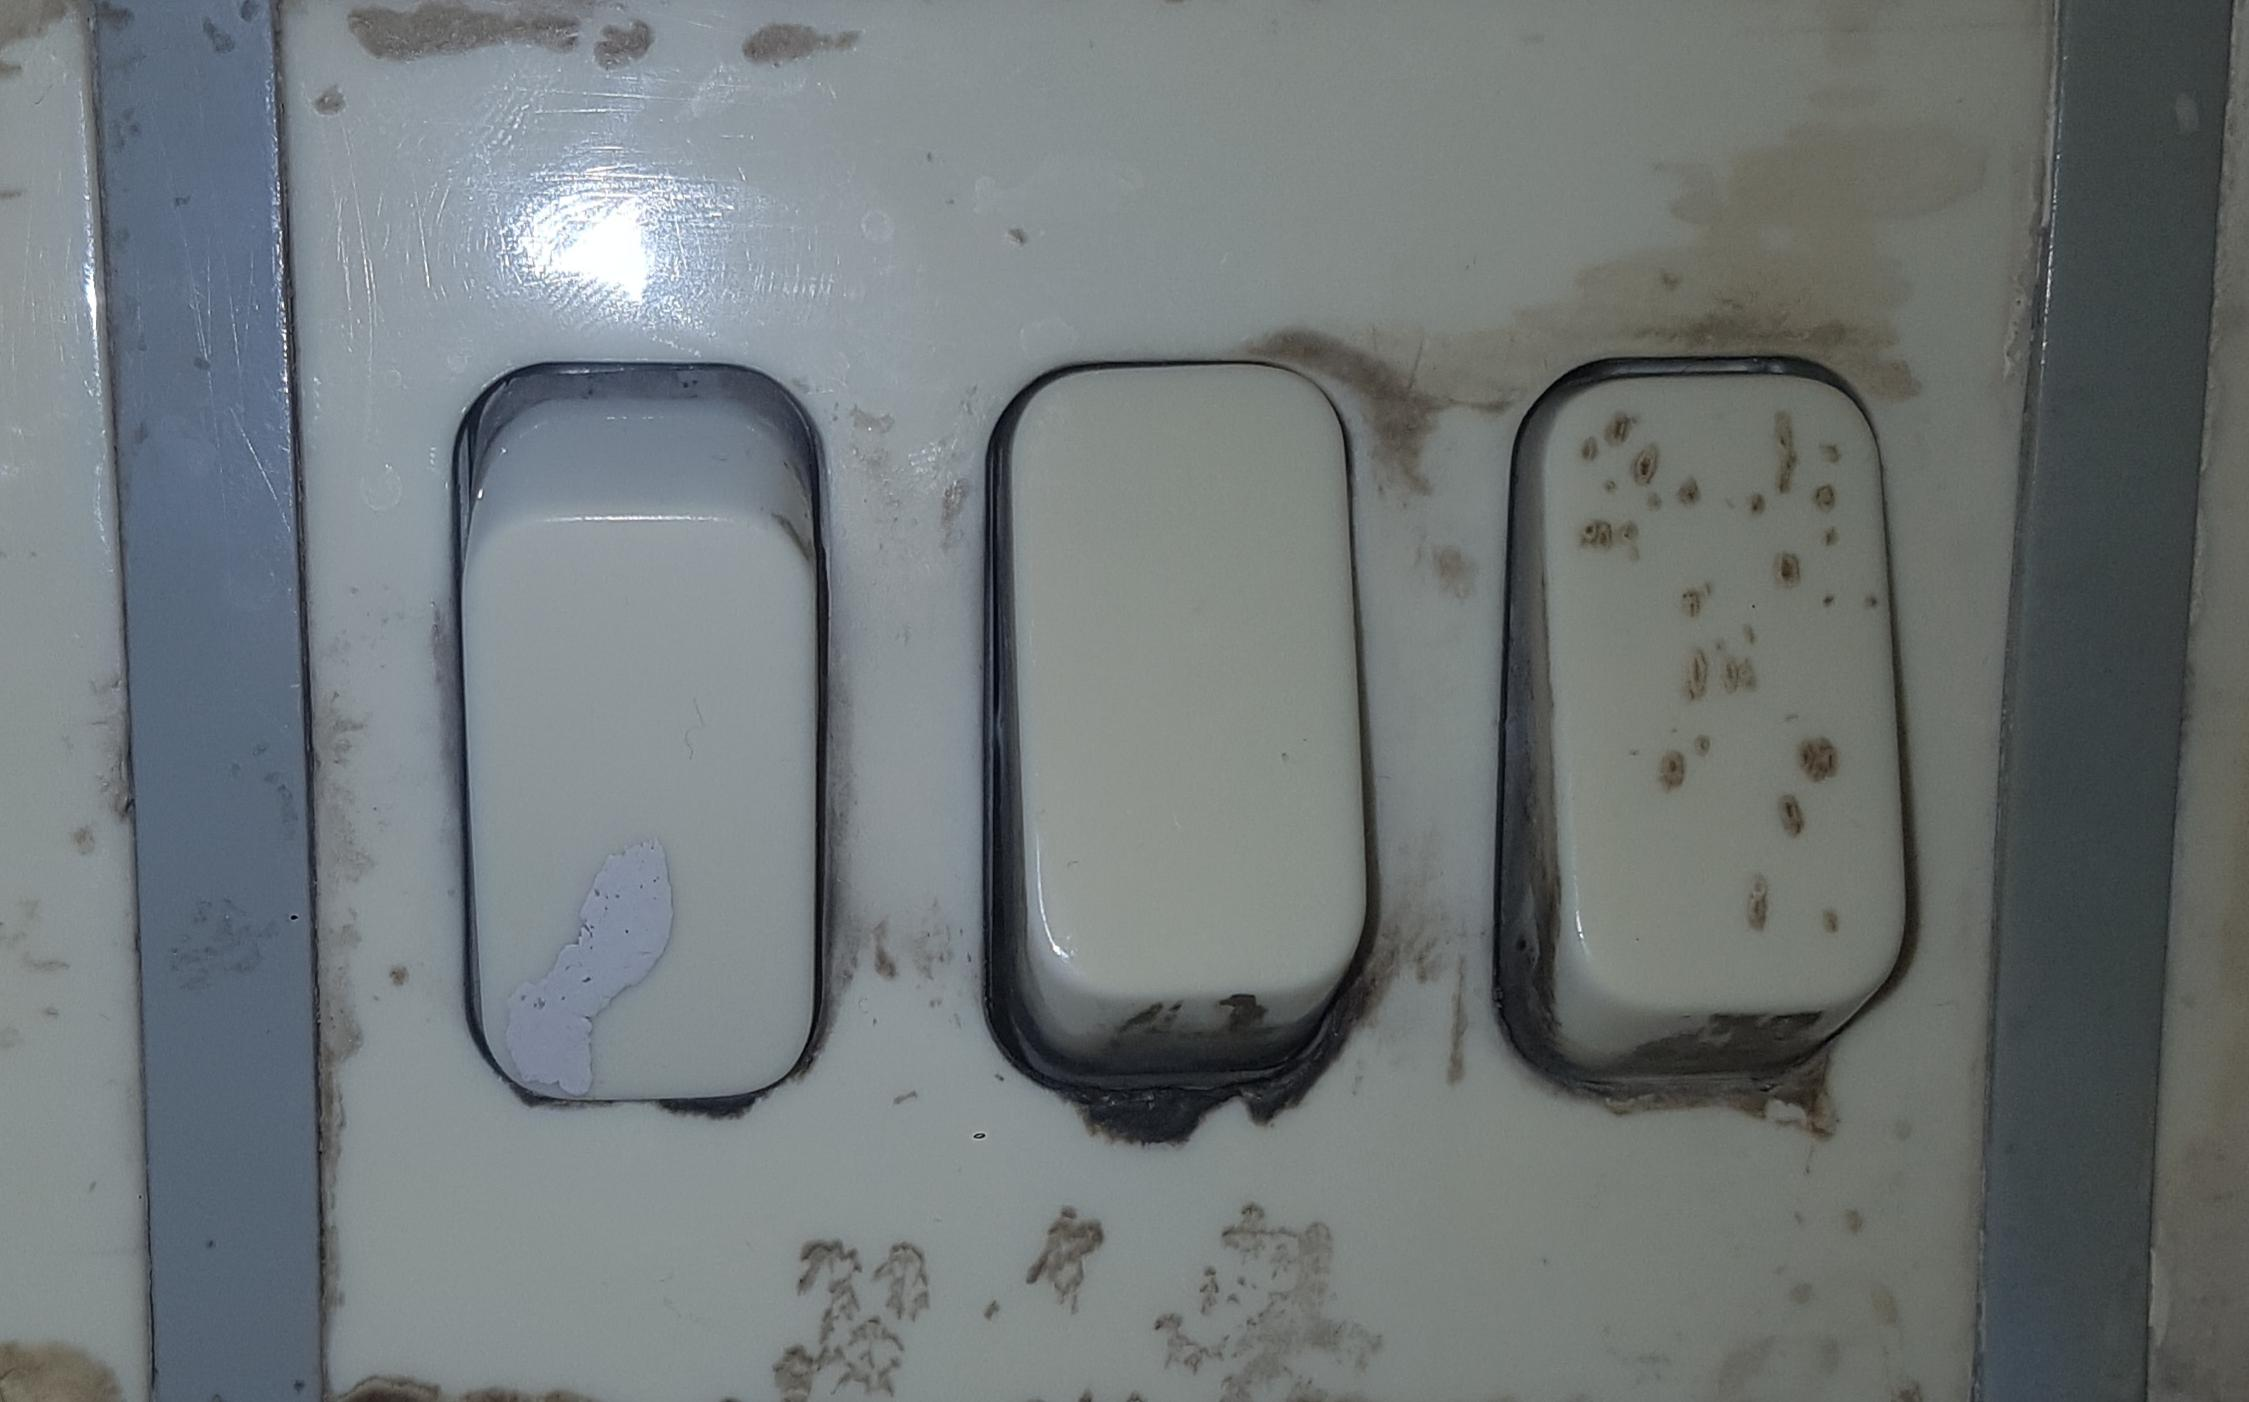electronic: (266, 6, 2005, 1402)
